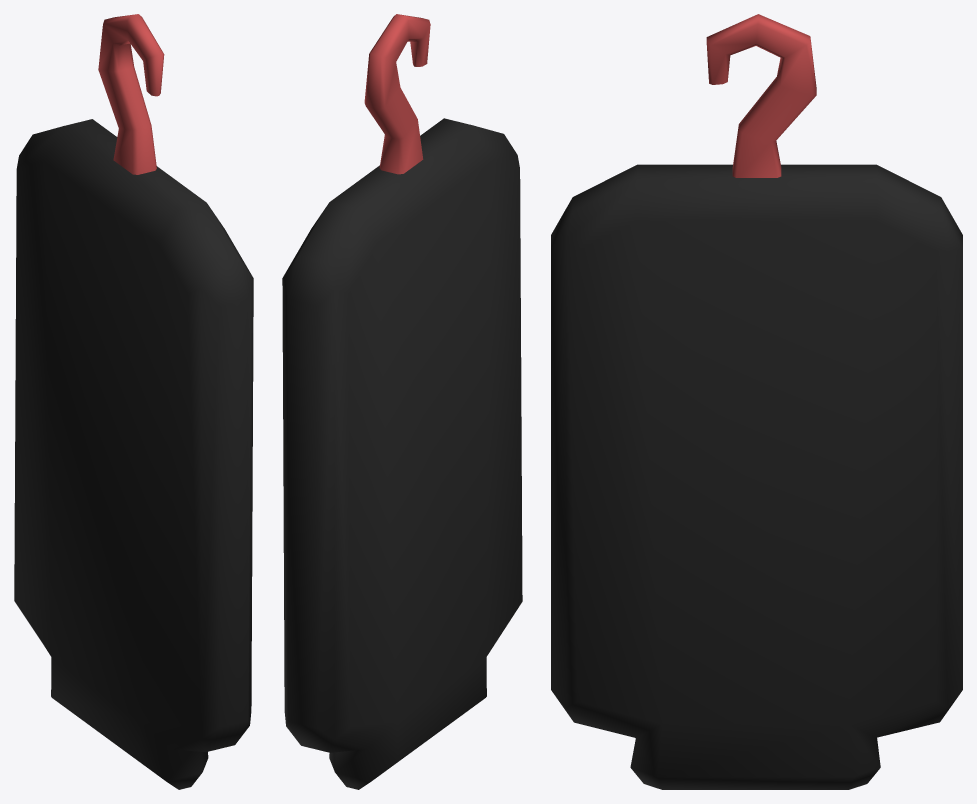
The model's file is Clothes on a hanger 2.fbx.
3 views of the same model, side by side, from view 1: azimuth 30°, elevation 25°; view 2: azimuth 150°, elevation 25°; view 3: azimuth 270°, elevation 25° (orthographic). The views are drawn at different scales.
Visible parts, largest first — view 1: Clothes on a hanger 2; view 2: Clothes on a hanger 2; view 3: Clothes on a hanger 2.
Boxes of the visible parts, x1,y1,x2,y2 form: Clothes on a hanger 2: (14,14,253,789); Clothes on a hanger 2: (282,14,522,789); Clothes on a hanger 2: (551,14,962,789).
Bounding box in the file's own units: 16.05 × 153 × 74.64.
